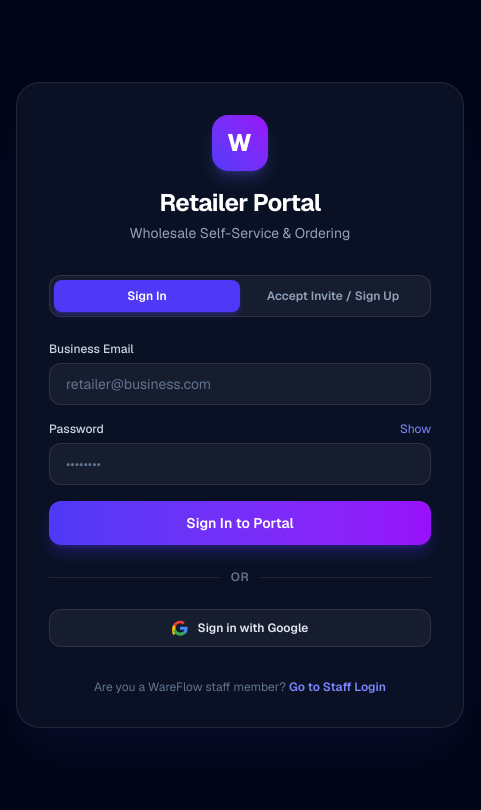
Test: Retailer Portal Authentication & Scoped Shell (Step 11.1) › switches to invitation acceptance mode and displays Invite Token input
This screenshot has width=481, height=810.
Click the button "Accept Invite / Sign Up". click: (333, 296)
box: [240,280,426,312]
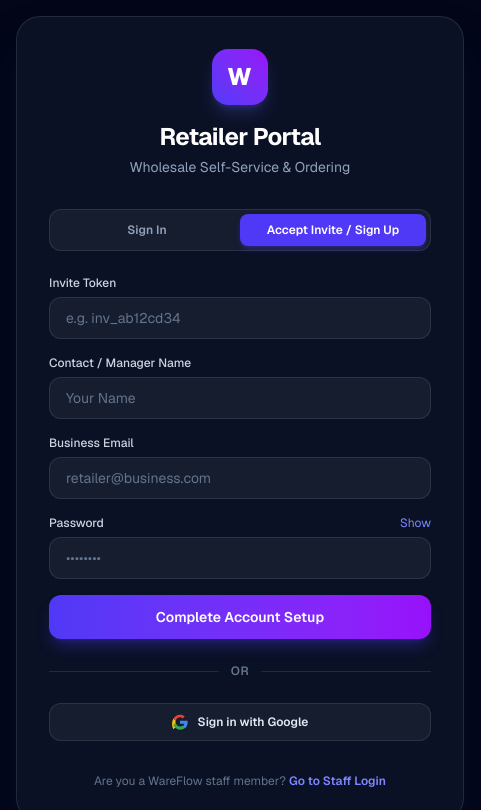
Expected: the field with placeholder "e.g. inv_ab12cd34" is shown, [49,297,431,339]
Expected: the button "Complete Account Setup" is shown, [49,595,431,639]
